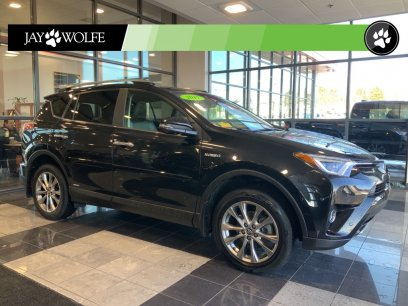Toyota RAV-4: (21, 83, 390, 276)
